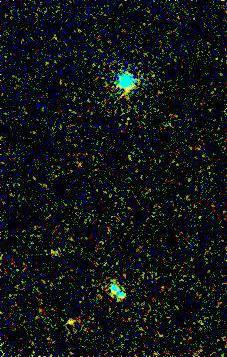star: (59, 306, 89, 336)
